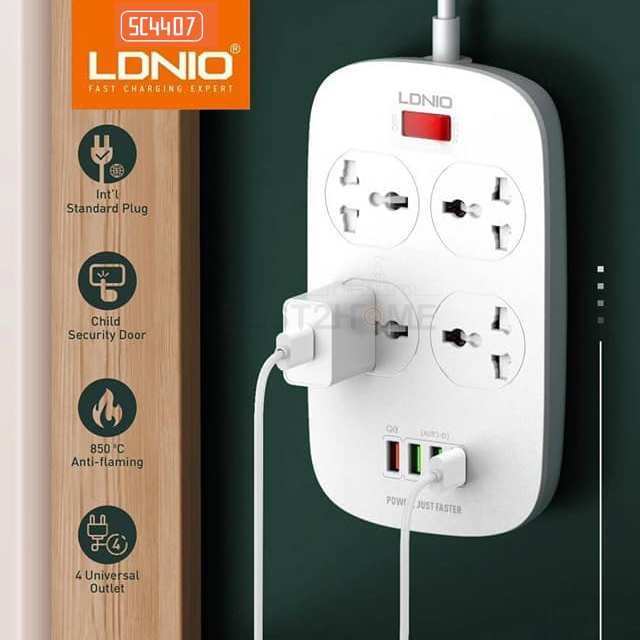Three_eye_plug: (263, 50, 567, 540)
